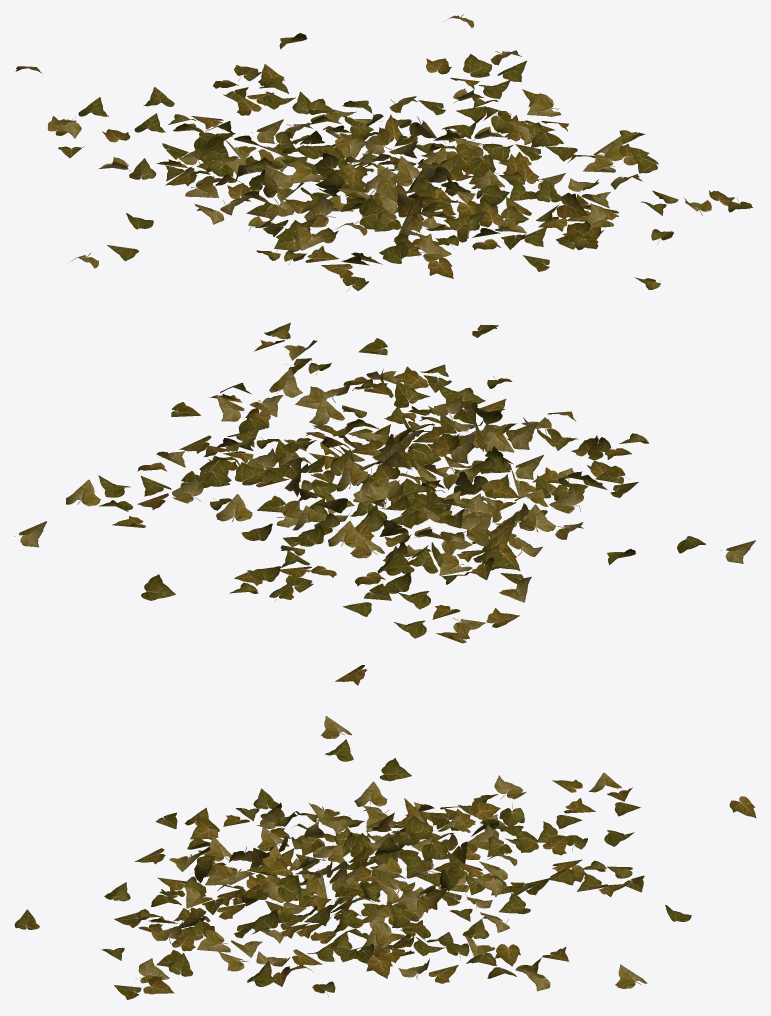
File: SM_LeavesPile_02a.fbx
3 views of the same model, one above another, from view 1: azimuth 30°, elevation 25°; view 2: azimuth 150°, elevation 25°; view 3: azimuth 270°, elevation 25° (orthographic). The views are drawn at different scales.
Parts seen in each view (by area): view 1: SM_LeavesPile_02a_LOD0; view 2: SM_LeavesPile_02a_LOD0; view 3: SM_LeavesPile_02a_LOD0.
Boxes of the visible parts, x1=… form: SM_LeavesPile_02a_LOD0: x1=15, y1=14, x2=752, y2=291; SM_LeavesPile_02a_LOD0: x1=14, y1=322, x2=755, y2=685; SM_LeavesPile_02a_LOD0: x1=14, y1=716, x2=756, y2=999.
Bounding box in the file's own units: 430 × 497 × 24.01.
Materials: 1 (1 with a texture image).
